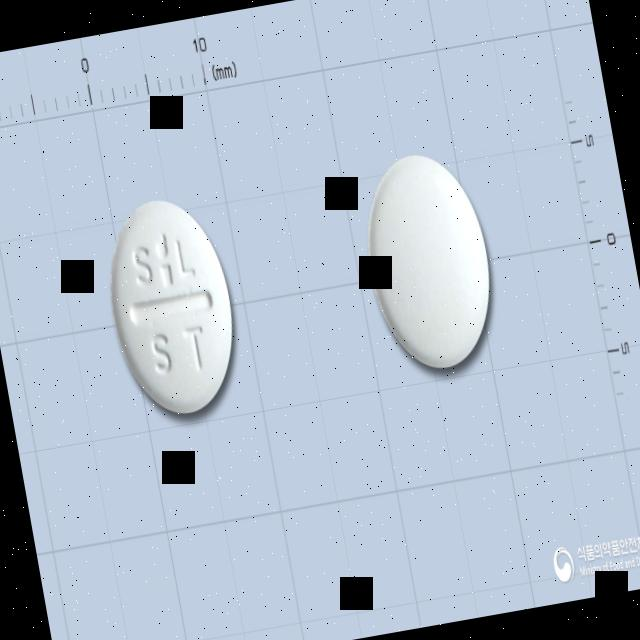Septrin: (94, 189, 250, 423)
